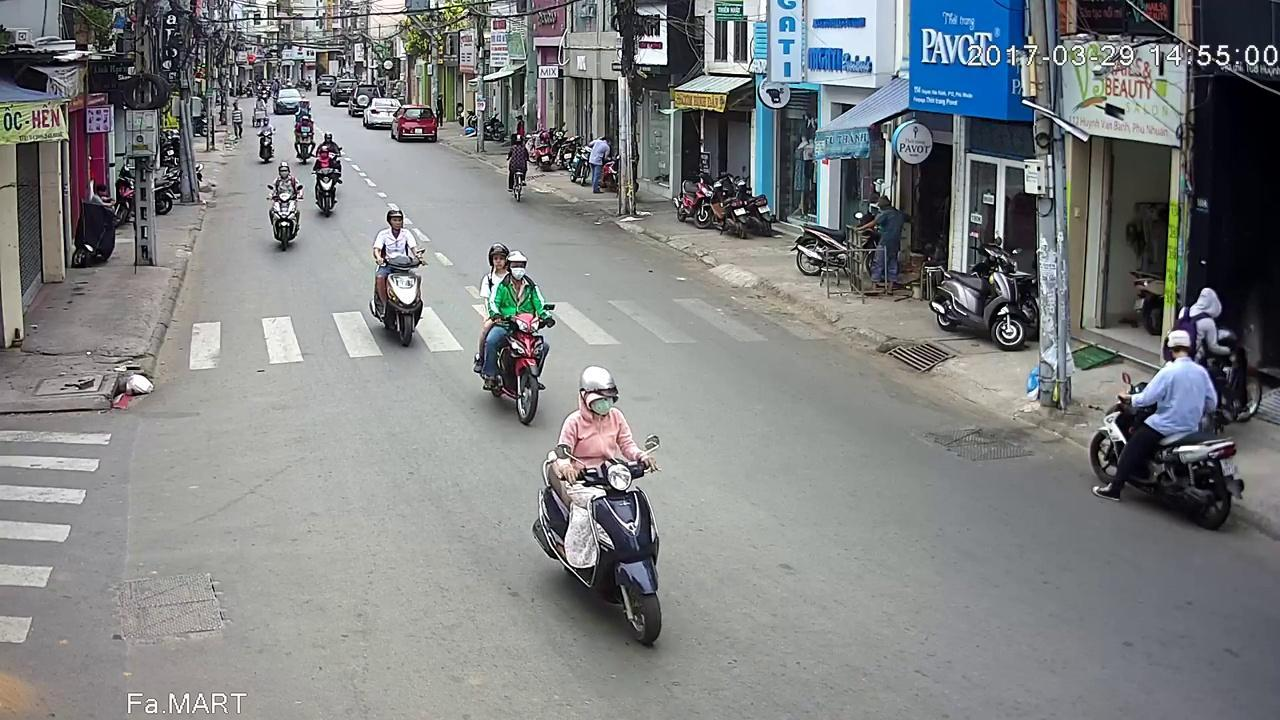xe dap: (507, 132, 530, 199)
xe hoi: (389, 101, 435, 138)
xe may: (532, 362, 667, 641), (1085, 320, 1241, 521), (476, 243, 559, 426), (371, 207, 432, 346), (269, 155, 308, 247), (309, 147, 337, 220), (317, 131, 341, 182), (291, 117, 314, 167), (255, 120, 276, 165)
